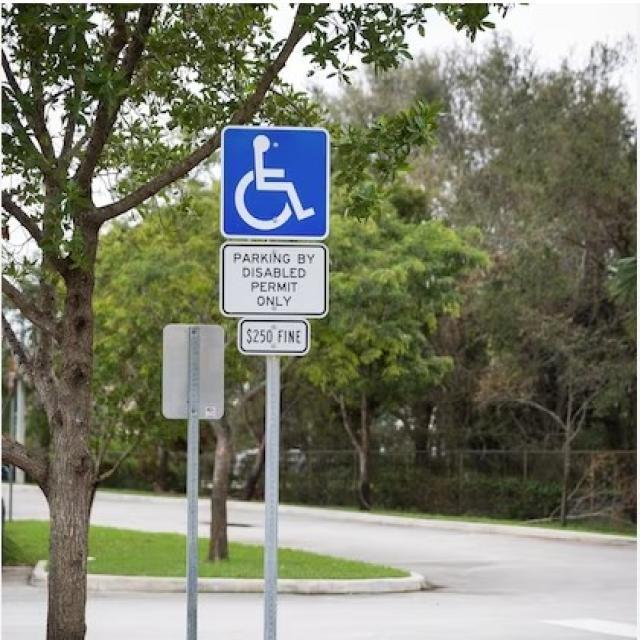symbol_of_access: (218, 124, 331, 241)
